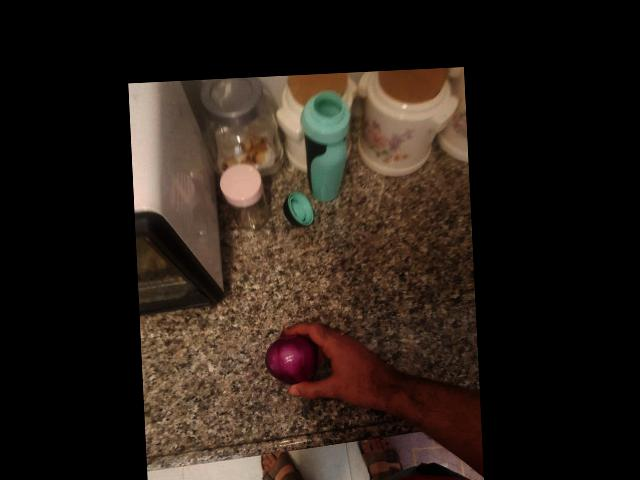onion: (267, 333, 327, 389)
